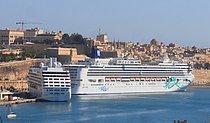Ship: (60, 54, 199, 97), (23, 55, 75, 105)
